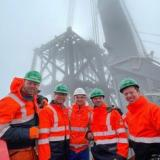Helmet: (119, 78, 139, 93), (23, 70, 42, 84), (89, 87, 105, 99), (54, 83, 68, 94), (73, 86, 87, 96)
